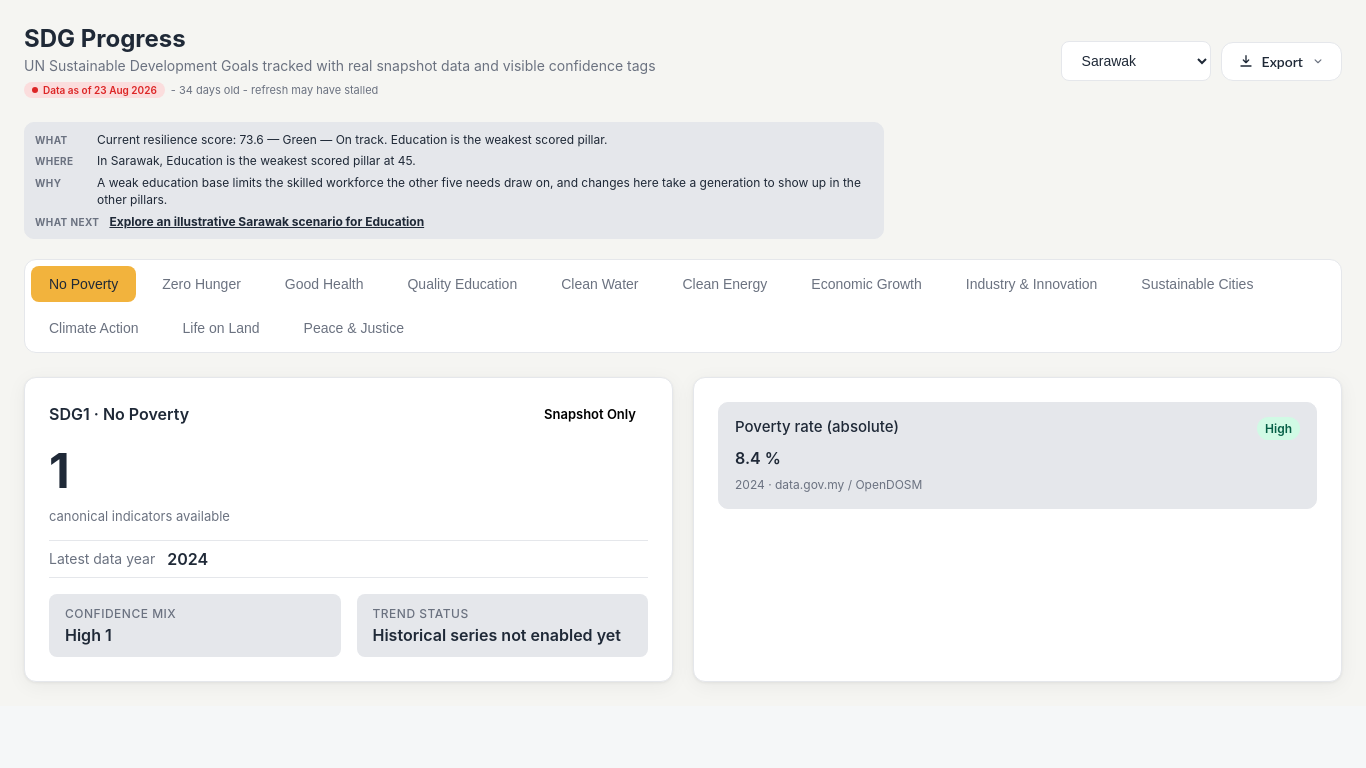
SDG Progress page › changes the scope when the goal tab or the region changes
The width and height of the screenshot is (1366, 768).
Click the button "Quality Education": (462, 284) [390, 266, 535, 302]
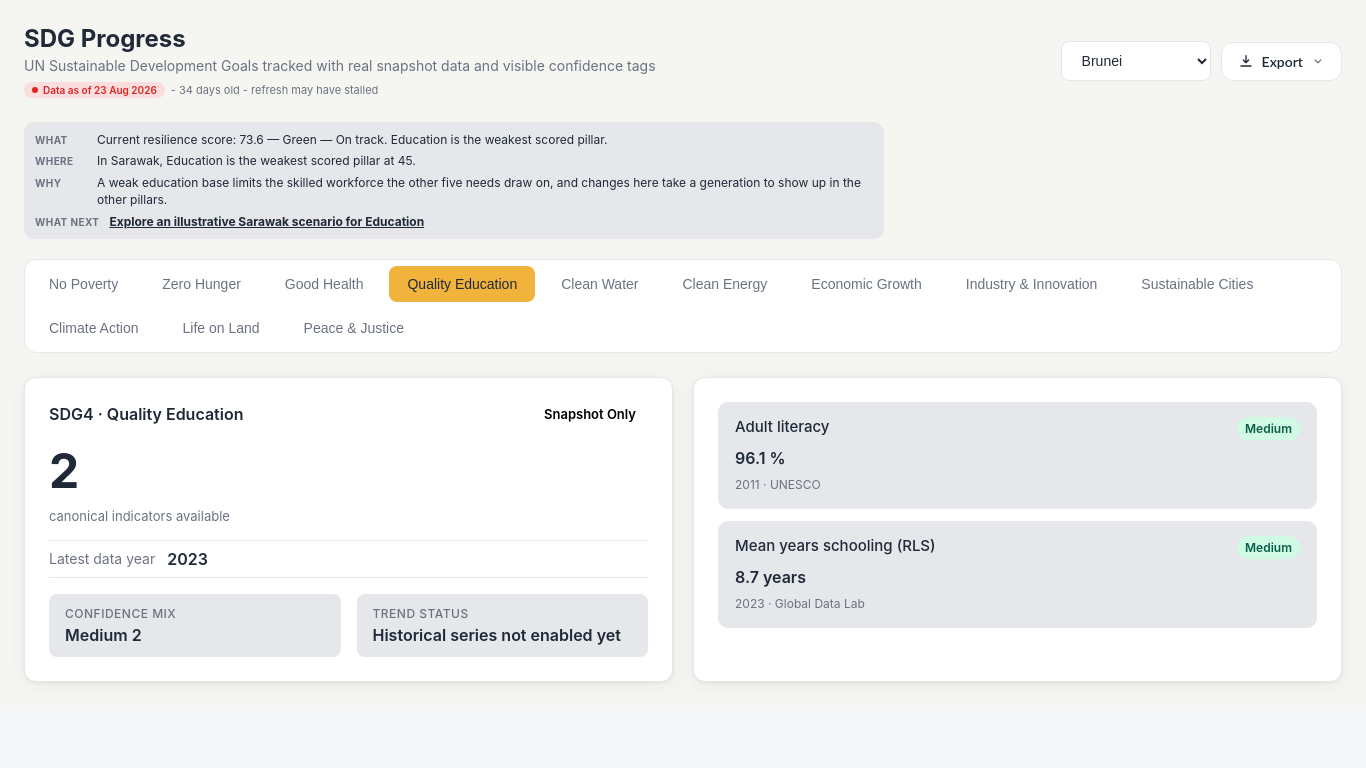
Expected: the text "Mean years schooling (RLS)" is shown, [735, 536, 936, 555]
Expected: the text "Adult literacy" is shown, [735, 417, 830, 436]
Expected: the text "Poverty rate (absolute)" is gone
Select "Brunei" in the dropdown: (1136, 61) [1061, 41, 1211, 81]
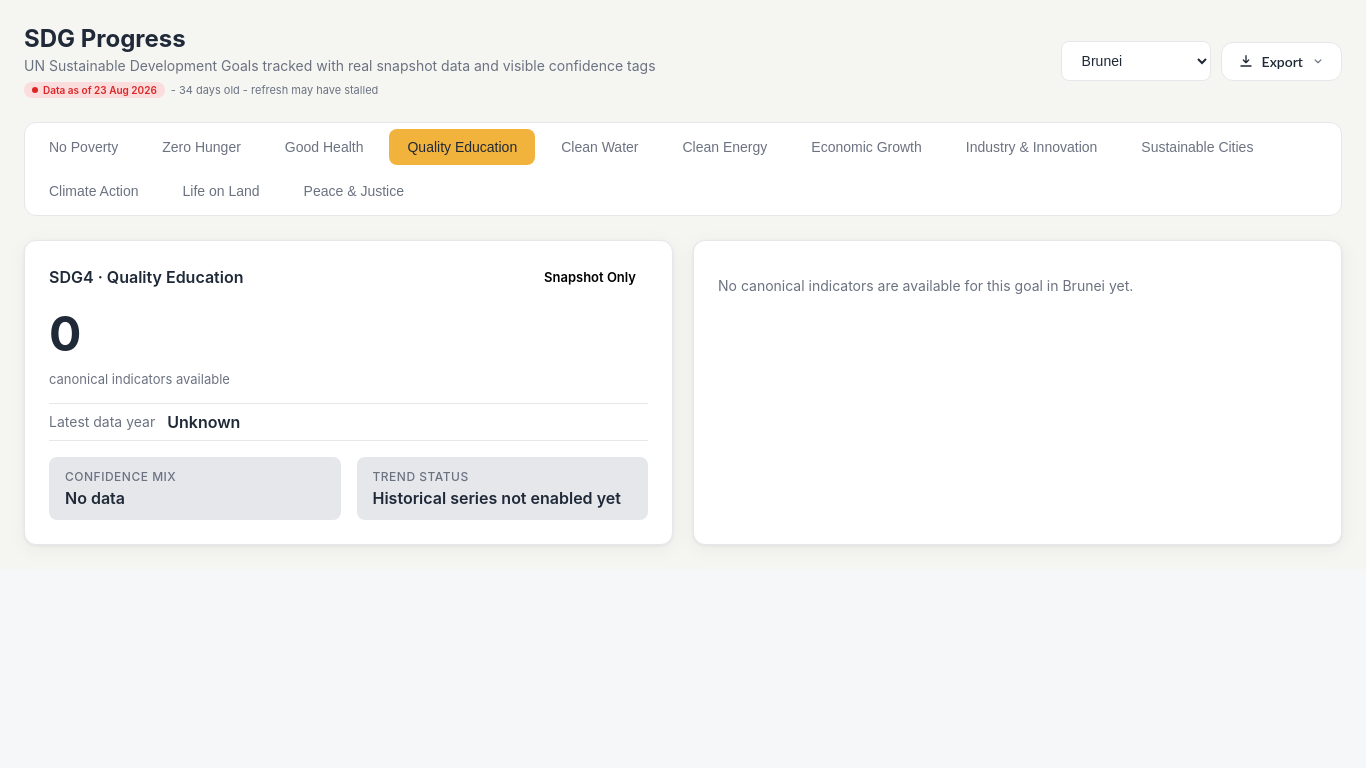
Expected: the text "No canonical indicators" is shown, [718, 277, 1133, 294]
